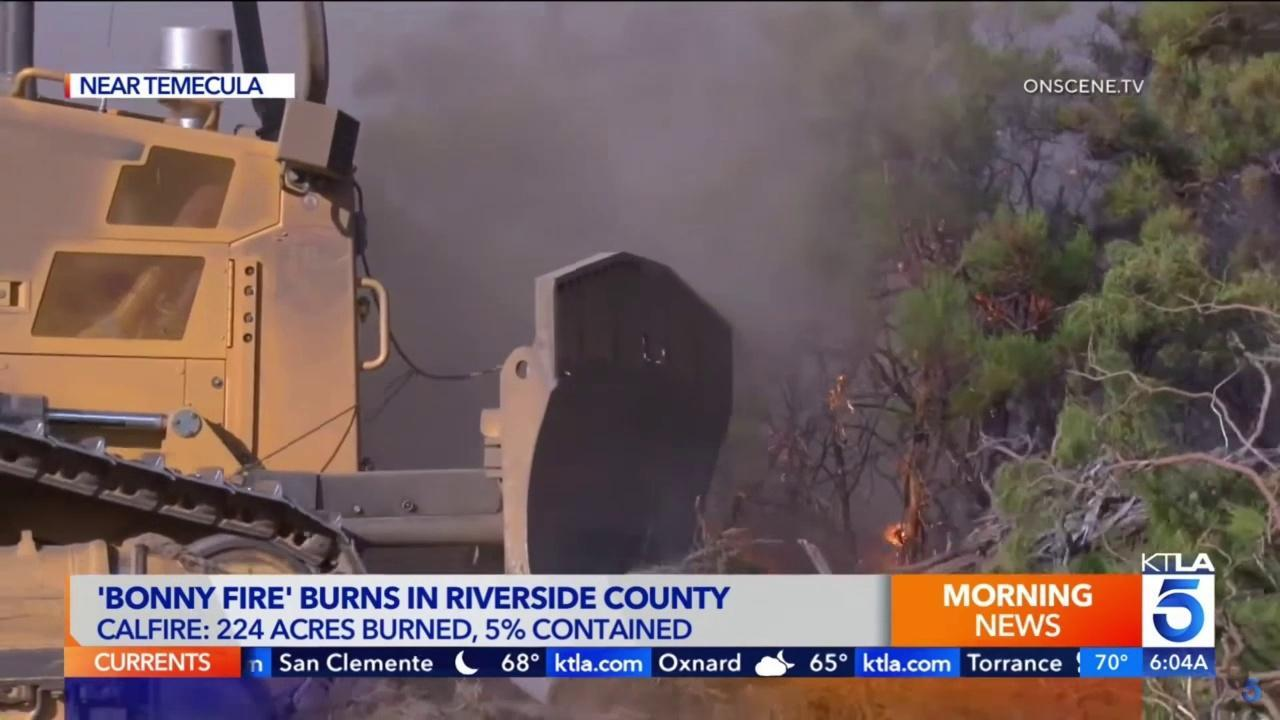fire: (966, 279, 1008, 327), (823, 372, 862, 420), (876, 515, 918, 552), (1024, 282, 1060, 321)
smoke: (283, 2, 1159, 574)
